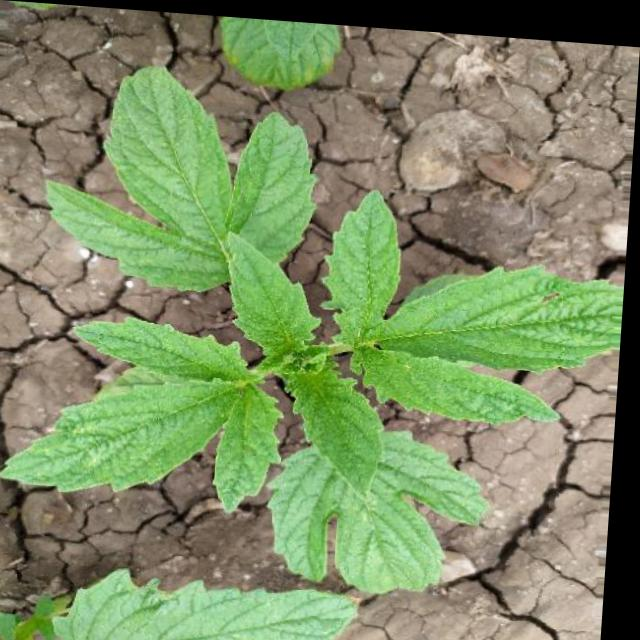crop: (3, 75, 636, 605)
